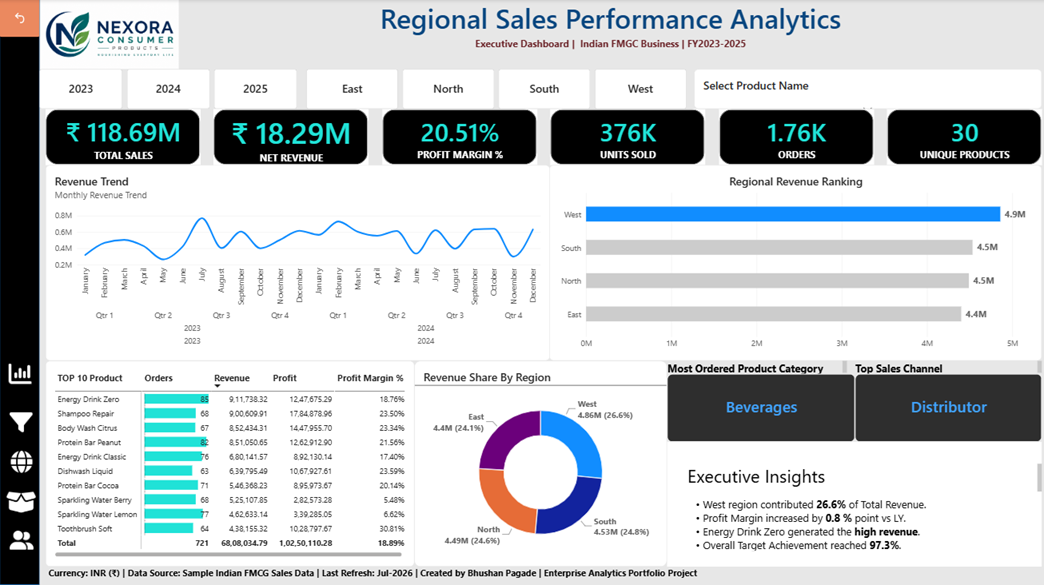

Layout of this report page (visuals, bound fields, positions):
{"tool":"powerbi","page":{"name":"Page 1","canvas":[1920,1080],"ordinal":0},"visuals":[{"type":"textbox","box":[10,0,280,280],"z":0},{"type":"shape","box":[10.9,0,72.4,1062.3],"z":1000},{"type":"cardVisual","title":"REVENUE","fields":{"Data":["Avg(India Regional Sales Performance Analytics.Profit %)"]},"box":[704,199.1,280.5,101.3],"z":2000},{"type":"cardVisual","title":"REVENUE","fields":{"Data":["Sum(India Regional Sales Performance Analytics.Gross_Sales_INR)"]},"box":[94.1,199.1,280.5,101.3],"z":3000},{"type":"cardVisual","title":"REVENUE","fields":{"Data":["CountNonNull(India Regional Sales Performance Analytics.Order_ID)"]},"box":[1313.8,199.1,280.5,101.3],"z":4000},{"type":"cardVisual","title":"REVENUE","fields":{"Data":["Sum(India Regional Sales Performance Analytics.Units_Sold)"]},"box":[1008,199.1,280.5,101.3],"z":5000},{"type":"cardVisual","title":"REVENUE","fields":{"Data":["Count(India Regional Sales Performance Analytics.Product_Name)"]},"box":[1617.8,199.1,280.5,101.3],"z":6000},{"type":"lineChart","title":"Revenue Trend","fields":{"Category":["India Regional Sales Performance Analytics.Order_Date.Variation.Date Hierarchy.Year","India Regional Sales Performance Analytics.Start of Month.Variation.Date Hierarchy.Year","India Regional Sales Performance Analytics.Start of Month.Variation.Date Hierarchy.Quarter","India Regional Sales Performance Analytics.Start of Month.Variation.Date Hierarchy.Month"],"Y":["Sum(India Regional Sales Performance Analytics.Net_Revenue_INR)"]},"box":[94.1,300.4,913.9,354.7],"z":7000},{"type":"barChart","title":"Regional Revenue Ranking","fields":{"Category":["India Regional Sales Performance Analytics.Region"],"Y":["Sum(India Regional Sales Performance Analytics.Net_Revenue_INR)"]},"box":[1006.2,300.4,892.2,354.7],"z":8000},{"type":"pivotTable","fields":{"Rows":["India Regional Sales Performance Analytics.Product_Name"],"Values":["CountNonNull(India Regional Sales Performance Analytics.Order_ID)","Sum(India Regional Sales Performance Analytics.Net_Revenue_INR)","Sum(India Regional Sales Performance Analytics.Profit_INR)","Avg(India Regional Sales Performance Analytics.Profit %)"]},"box":[94.1,655.1,667.8,372.8],"z":9000},{"type":"actionButton","box":[10.9,0,72.4,68.8],"z":10000},{"type":"image","box":[23.5,962.7,54.3,34.4],"z":11000},{"type":"image","box":[27.1,644.2,41.6,68.8],"z":12000},{"type":"image","box":[29,733.8,41.6,63.3],"z":13000},{"type":"image","box":[19.9,818,61.5,39.8],"z":14000},{"type":"image","box":[23.5,878.6,52.5,63.3],"z":15000},{"type":"textbox","box":[94.1,725.7,912.1,354.7],"z":16000},{"type":"textbox","box":[716.6,935.6,12.7,45.2],"z":17000},{"type":"shape","title":"Regional Sales Performance Analytics","box":[336.6,0,1561.7,106.8],"z":18000},{"type":"donutChart","title":"Revenue Share By Region","fields":{"Category":["India Regional Sales Performance Analytics.Region"],"Y":["Sum(India Regional Sales Performance Analytics.Net_Revenue_INR)"]},"box":[761.9,655.1,457.8,372.8],"z":19000},{"type":"shape","box":[1219.7,801.7,678.6,226.2],"z":20000},{"type":"textbox","box":[1255.9,841.5,642.4,157.4],"z":21000},{"type":"advancedSlicerVisual","fields":{"Values":["India Regional Sales Performance Analytics.Year"]},"box":[83.2,126.7,468.7,72.4],"z":22000},{"type":"image","box":[83.2,0,253.4,126.7],"z":23000},{"type":"cardVisual","title":"REVENUE","fields":{"Data":["Sum(India Regional Sales Performance Analytics.Net_Revenue_INR)"]},"box":[398.1,199.1,280.5,101.3],"z":24000},{"type":"advancedSlicerVisual","fields":{"Values":["India Regional Sales Performance Analytics.Region"]},"box":[566.4,126.7,689.5,72.4],"z":25000},{"type":"listSlicer","fields":{"Values":["India Regional Sales Performance Analytics.Product_Name"]},"box":[1268.6,126.7,629.8,72.4],"z":26000},{"type":"textbox","box":[1219.7,655.1,325.7,23.5],"z":27000},{"type":"textbox","box":[1559.9,655.1,338.4,23.5],"z":28000},{"type":"cardVisual","fields":{"Data":["Min(India Regional Sales Performance Analytics.Product_Category)"]},"box":[1219.7,678.6,340.2,123.1],"z":29000},{"type":"cardVisual","fields":{"Data":["Min(India Regional Sales Performance Analytics.Sales_Channel)"]},"box":[1559.9,678.6,338.4,123.1],"z":30000},{"type":"textbox","box":[99.5,1027.9,1798.8,34.4],"z":31000}]}

Visuals, with their boxes in screenshot pixels (x1, y1, x2, y2):
textbox: box=[0, 0, 150, 152]
shape: box=[0, 0, 35, 584]
"REVENUE" cardVisual: box=[379, 107, 534, 164]
"REVENUE" cardVisual: box=[41, 107, 196, 164]
"REVENUE" cardVisual: box=[716, 107, 871, 164]
"REVENUE" cardVisual: box=[547, 107, 702, 164]
"REVENUE" cardVisual: box=[884, 107, 1040, 164]
"Revenue Trend" lineChart: box=[41, 164, 547, 360]
"Regional Revenue Ranking" barChart: box=[546, 164, 1040, 360]
pivotTable - India Regional Sales Performance Analytics.Product_Name x CountNonNull(India Regional Sales Performance Analytics.Order_ID): box=[41, 360, 411, 566]
actionButton: box=[0, 0, 35, 35]
image: box=[2, 530, 32, 549]
image: box=[4, 354, 27, 392]
image: box=[5, 403, 28, 438]
image: box=[0, 450, 34, 472]
image: box=[2, 483, 31, 518]
textbox: box=[41, 399, 546, 584]
textbox: box=[386, 515, 393, 540]
"Regional Sales Performance Analytics" shape: box=[175, 0, 1040, 56]
"Revenue Share By Region" donutChart: box=[411, 360, 664, 566]
shape: box=[664, 441, 1040, 566]
textbox: box=[684, 463, 1040, 550]
advancedSlicerVisual - India Regional Sales Performance Analytics.Year: box=[35, 67, 295, 107]
image: box=[35, 0, 175, 67]
"REVENUE" cardVisual: box=[209, 107, 365, 164]
advancedSlicerVisual - India Regional Sales Performance Analytics.Region: box=[303, 67, 684, 107]
listSlicer - India Regional Sales Performance Analytics.Product_Name: box=[691, 67, 1040, 107]
textbox: box=[664, 360, 844, 373]
textbox: box=[852, 360, 1040, 373]
cardVisual - Min(India Regional Sales Performance Analytics.Product_Category): box=[664, 373, 852, 441]
cardVisual - Min(India Regional Sales Performance Analytics.Sales_Channel): box=[852, 373, 1040, 441]
textbox: box=[44, 566, 1040, 584]
